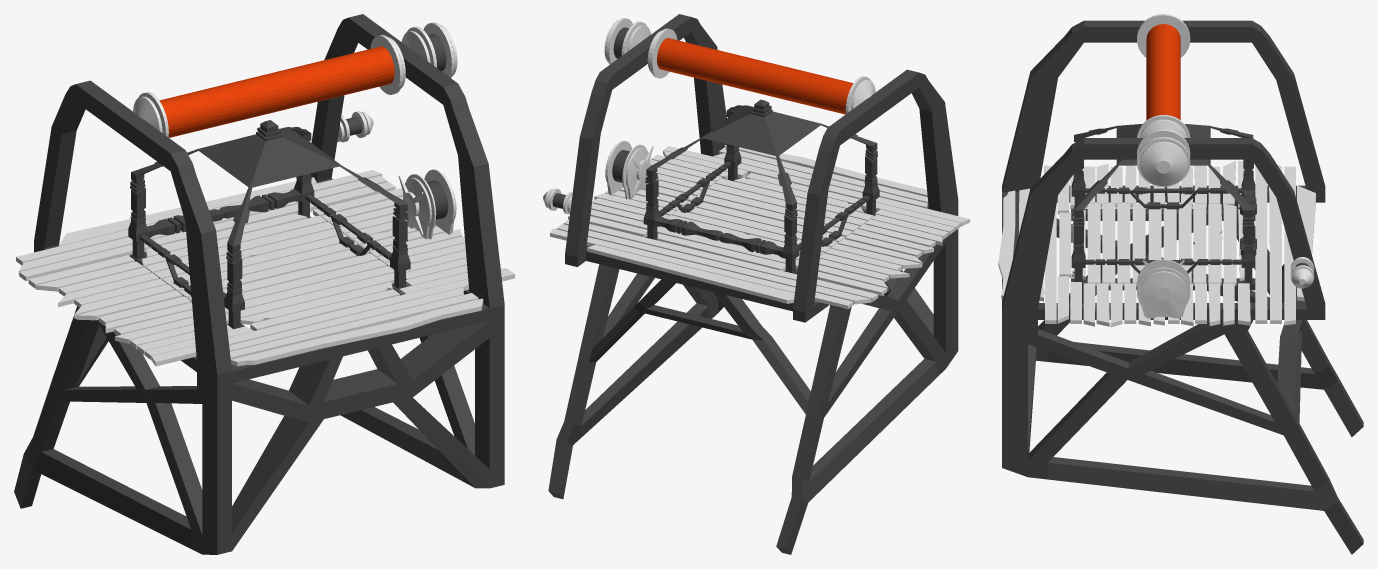
The model's file is Lift.fbx.
The picture shows the model from 3 angles, left to right: view 1: azimuth 30°, elevation 25°; view 2: azimuth 150°, elevation 25°; view 3: azimuth 270°, elevation 25°; orthographic projection. The views are drawn at different scales.
Parts seen in each view (by area): view 1: Supports, BigFloor, Floor, BigRotor, LiftCorpus, Roof, RotorStarter, LittleRotor.002; view 2: Supports, BigFloor, BigRotor, Floor, LiftCorpus, Roof, RotorStarter, LittleRotor.002; view 3: Supports, BigFloor, Floor, BigRotor, LiftCorpus, RotorStarter, Roof, LittleRotor.002.
Boxes of the visible parts, <box> form: Supports: <box>14,14,504,554</box>; BigFloor: <box>16,170,514,366</box>; Floor: <box>142,213,394,324</box>; BigRotor: <box>133,22,457,137</box>; LiftCorpus: <box>128,127,410,329</box>; Roof: <box>197,120,341,187</box>; RotorStarter: <box>403,169,456,239</box>; LittleRotor.002: <box>337,111,373,142</box>; Supports: <box>548,14,958,554</box>; BigFloor: <box>550,145,969,309</box>; BigRotor: <box>604,18,875,114</box>; Floor: <box>657,177,874,270</box>; LiftCorpus: <box>643,105,879,274</box>; Roof: <box>701,99,821,156</box>; RotorStarter: <box>605,140,649,199</box>; LittleRotor.002: <box>543,188,572,214</box>; Supports: <box>1002,20,1363,554</box>; BigFloor: <box>998,160,1315,327</box>; Floor: <box>1071,204,1244,285</box>; BigRotor: <box>1137,14,1190,186</box>; LiftCorpus: <box>1071,126,1256,290</box>; RotorStarter: <box>1137,259,1190,318</box>; Roof: <box>1116,124,1210,165</box>; LittleRotor.002: <box>1290,257,1314,288</box>.
Bounding box in the file's own units: 2255 × 2755 × 2125.
